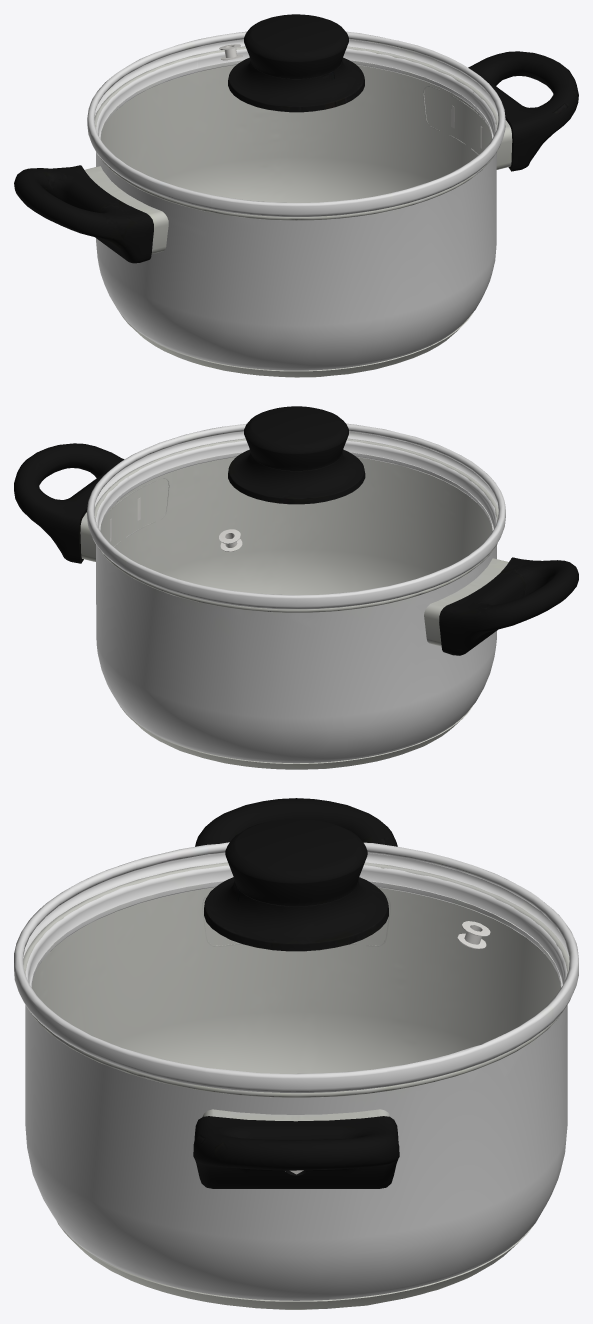
Rendered from Annons80298474-scene-512.glb.
3 renders of one model, top to bottom at view 1: azimuth 30°, elevation 25°; view 2: azimuth 150°, elevation 25°; view 3: azimuth 270°, elevation 25°, orthographic. The views are drawn at different scales.
Parts seen in each view (by area): view 1: 1; view 2: 1; view 3: 1.
Part boxes in pixels (x1,y1,x2,y2): 1: (14,14,578,377); 1: (14,406,578,769); 1: (14,798,578,1309).
Bounding box in the file's own units: 0.3107 × 0.1506 × 0.2095.
Materials: 2 (1 with a texture image).
